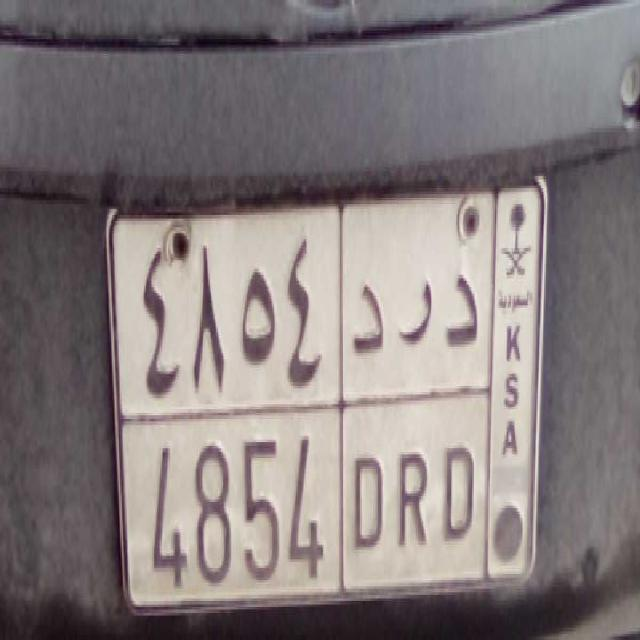license_plate: (130, 405, 484, 617)
